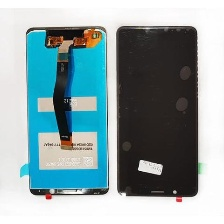phone: (23, 23, 111, 199), (113, 25, 200, 199)
